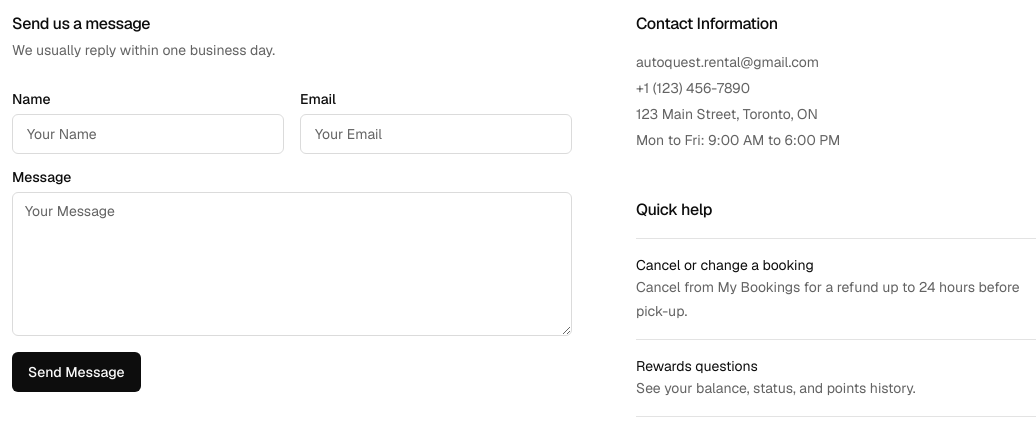
Scenario: ContactForm component › shows success message after successful submission
Type "Jane" into the field with placeholder "Your Name" at (148, 134), box top-left (12, 114), bottom-right (284, 154)
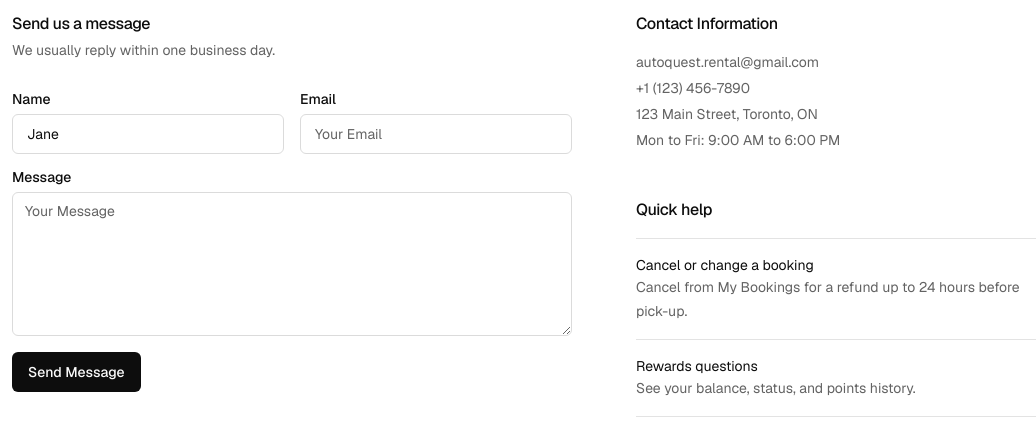
Type "jane@example.com" into the field with placeholder "Your Email" at (436, 134), box top-left (300, 114), bottom-right (572, 154)
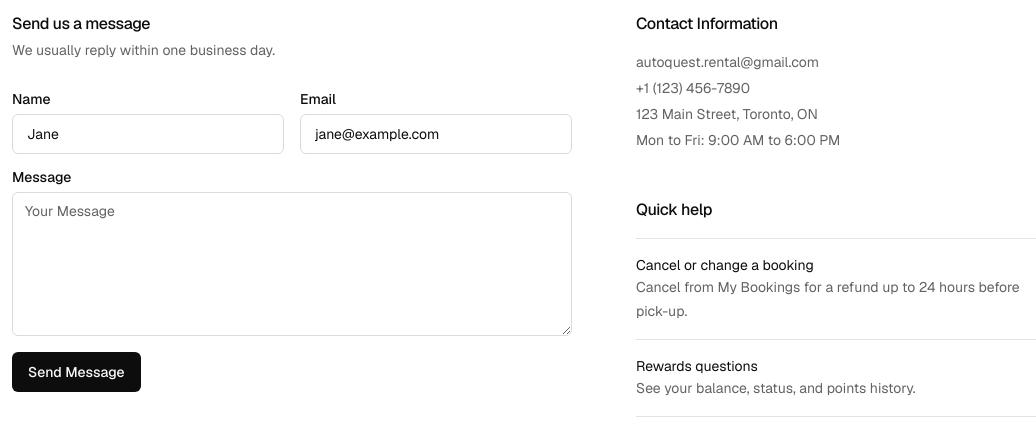
Type "Hi!" into the text box with placeholder "Your Message" at (292, 264), box top-left (12, 192), bottom-right (572, 336)
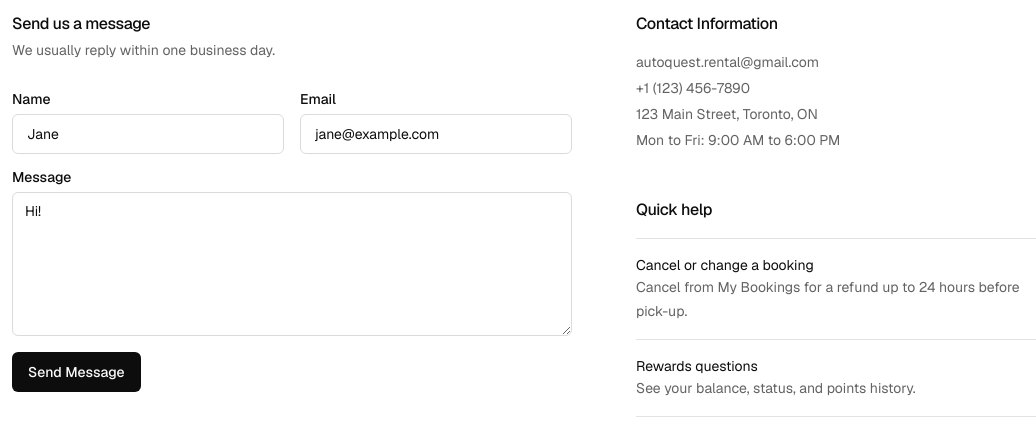
Submit the form from the button "Send Message", box top-left (12, 352), bottom-right (141, 392)
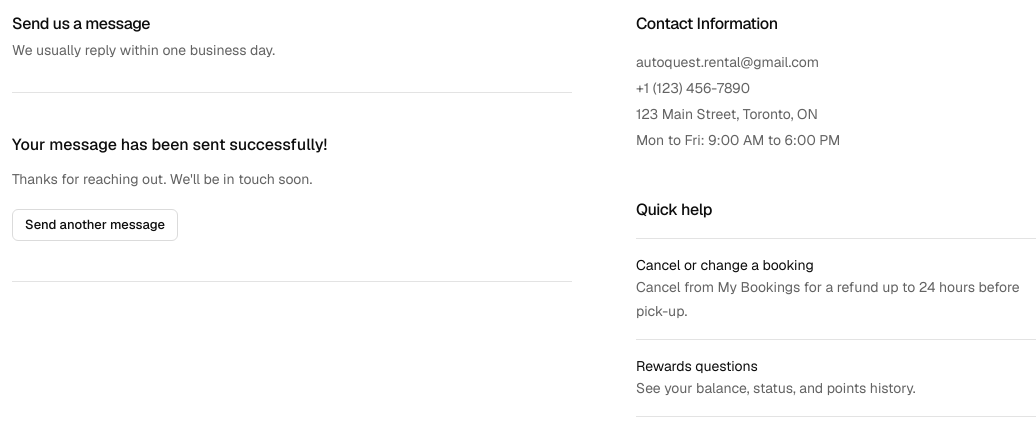
Now the text "Your message has been sent successfully!" is shown, box top-left (12, 134), bottom-right (327, 155)
